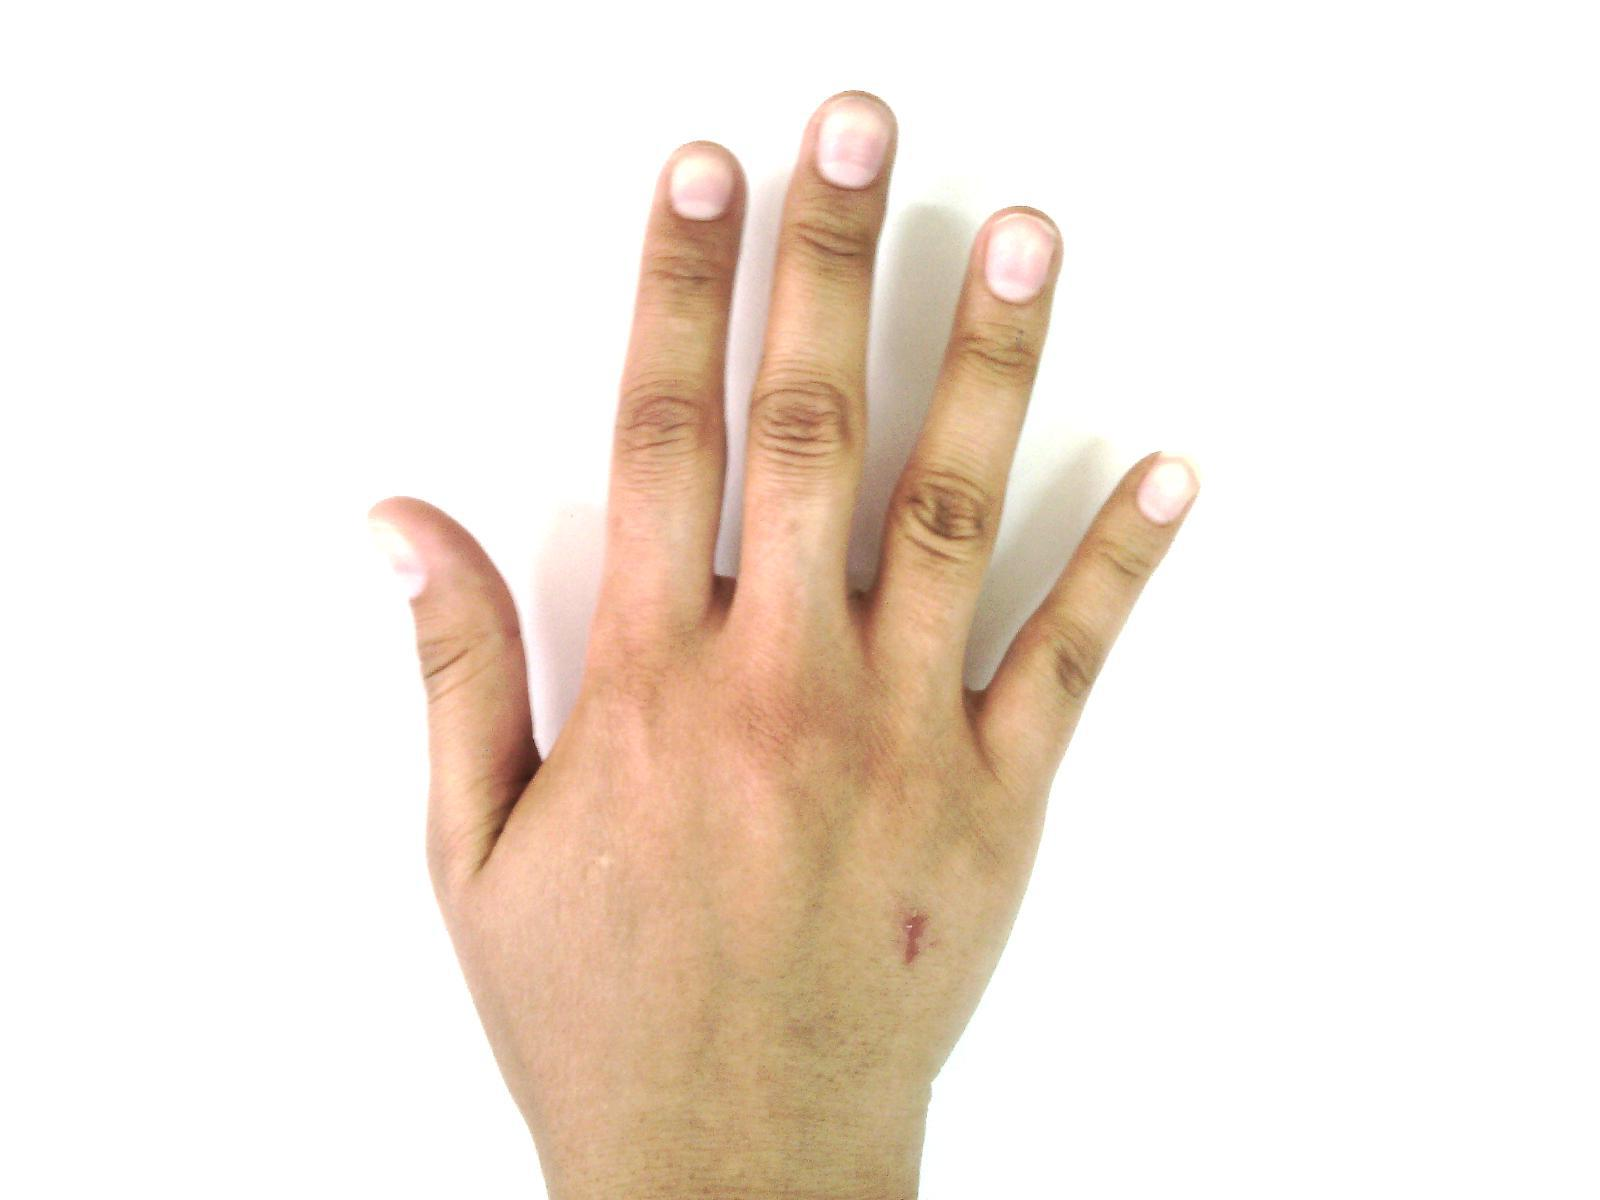hand: (351, 84, 1214, 1156)
